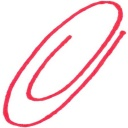Metal: (0, 1, 128, 128)
